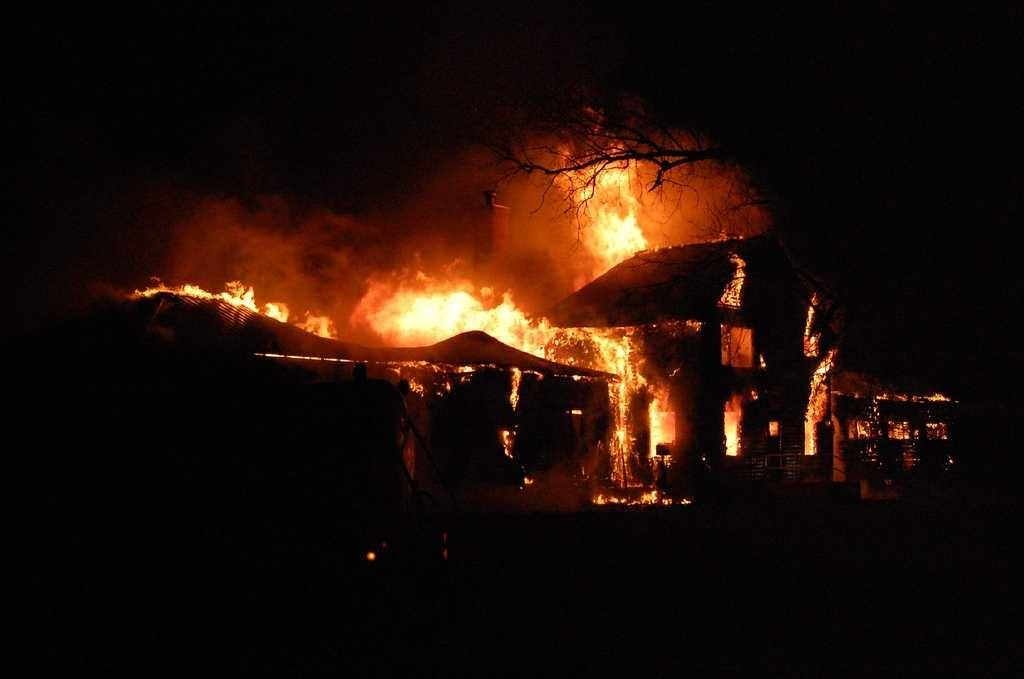fire: (392, 297, 480, 330), (593, 183, 633, 255)
